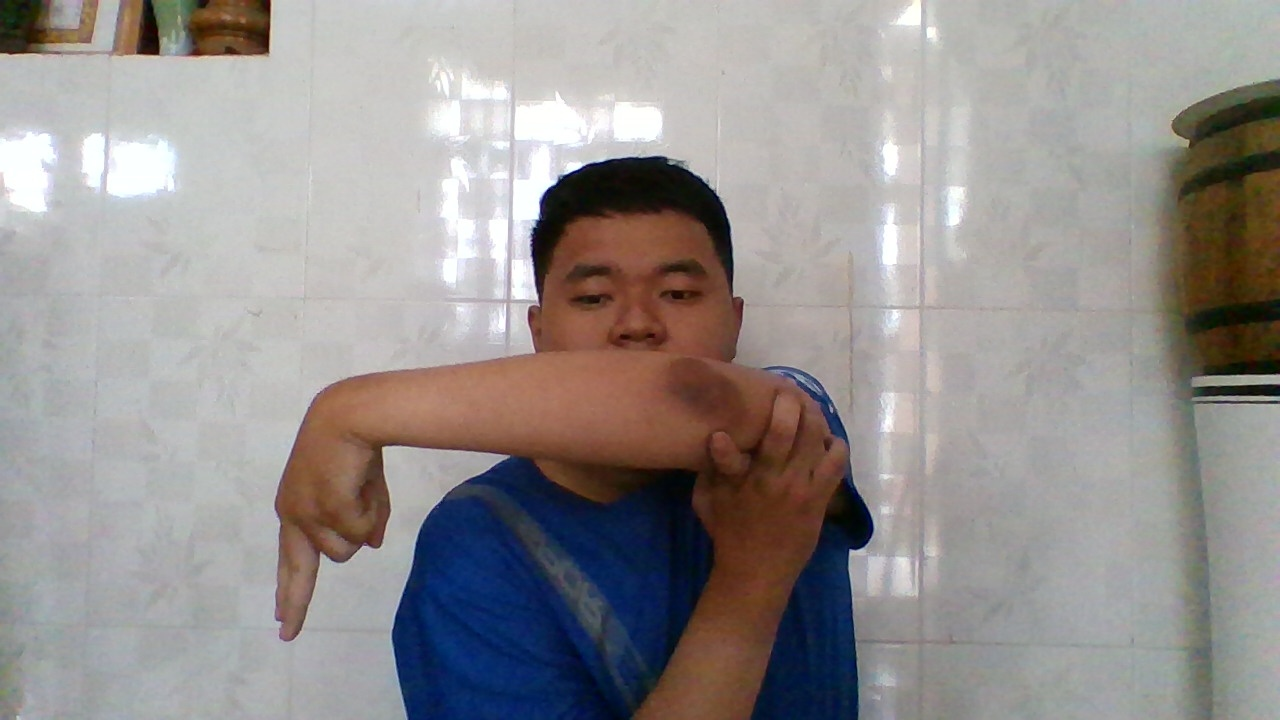N: (264, 393, 395, 651)
